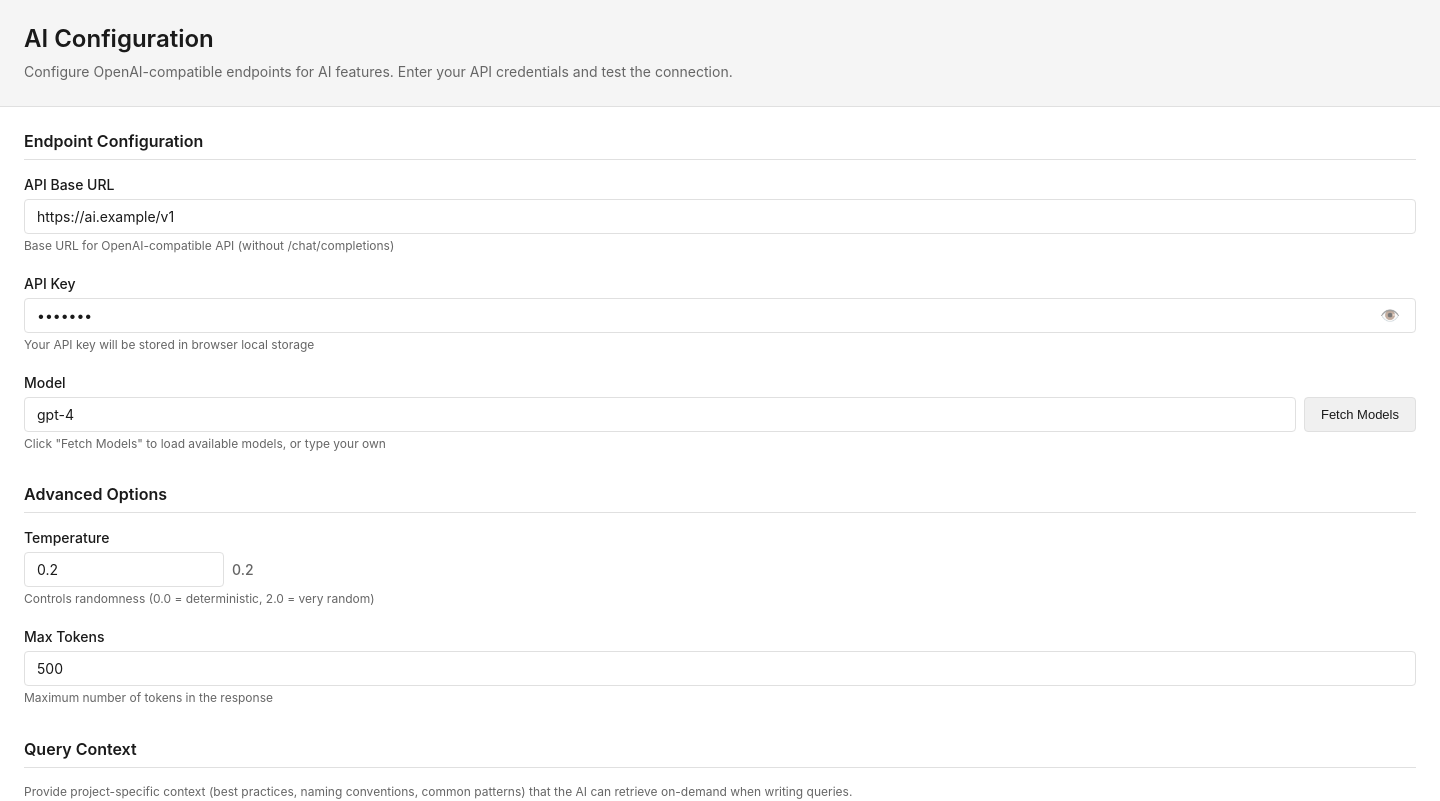
Test: AISettingsView › loads stored settings and toggles API key visibility
Step 1. Click the button with class "btn-toggle-visibility" → click(1390, 315), box [1372, 302, 1408, 329]
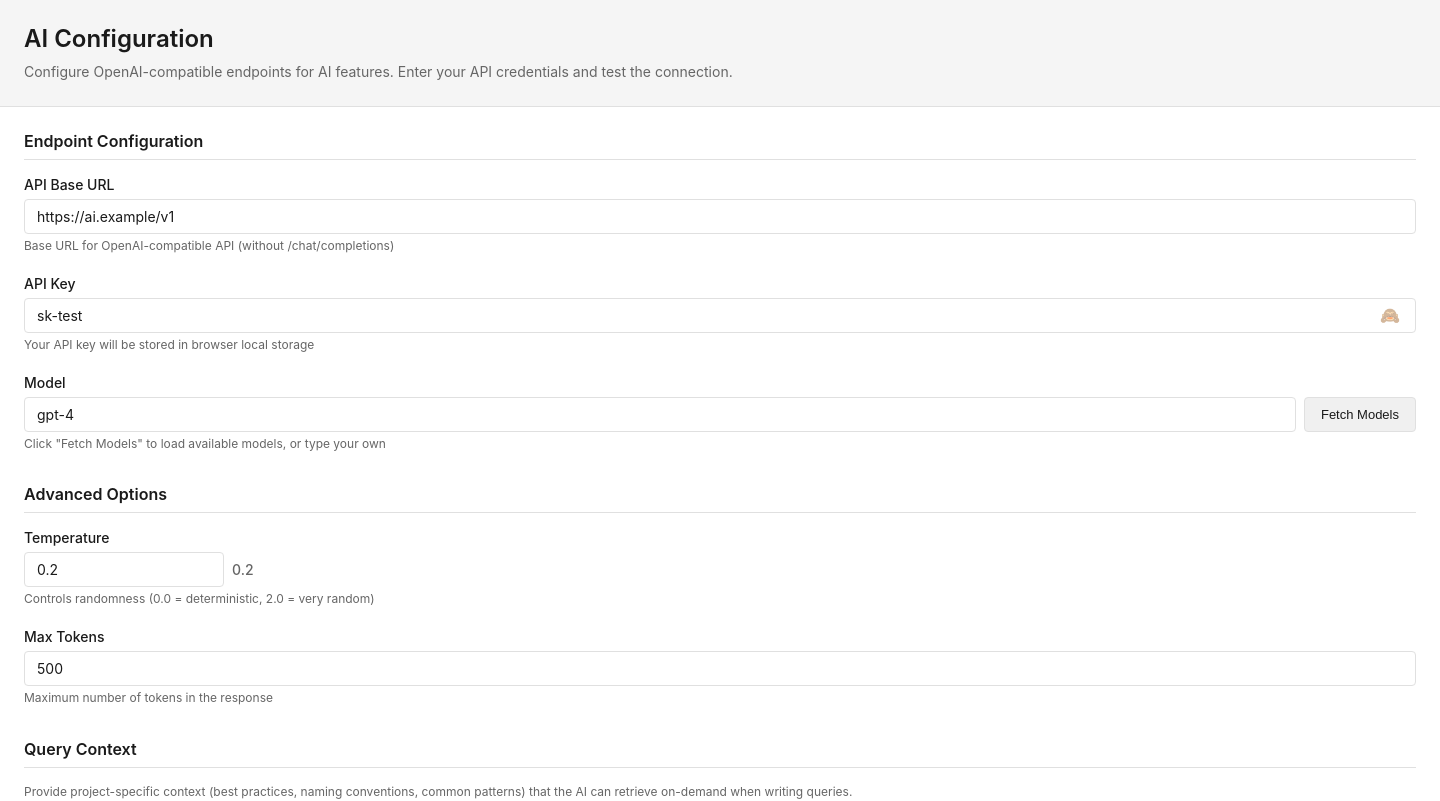
Now the field with id "ai-api-key" shows its text, box [24, 298, 1416, 333]
Step 2. Click the button with class "btn-toggle-visibility" → click(1390, 315), box [1372, 302, 1408, 329]
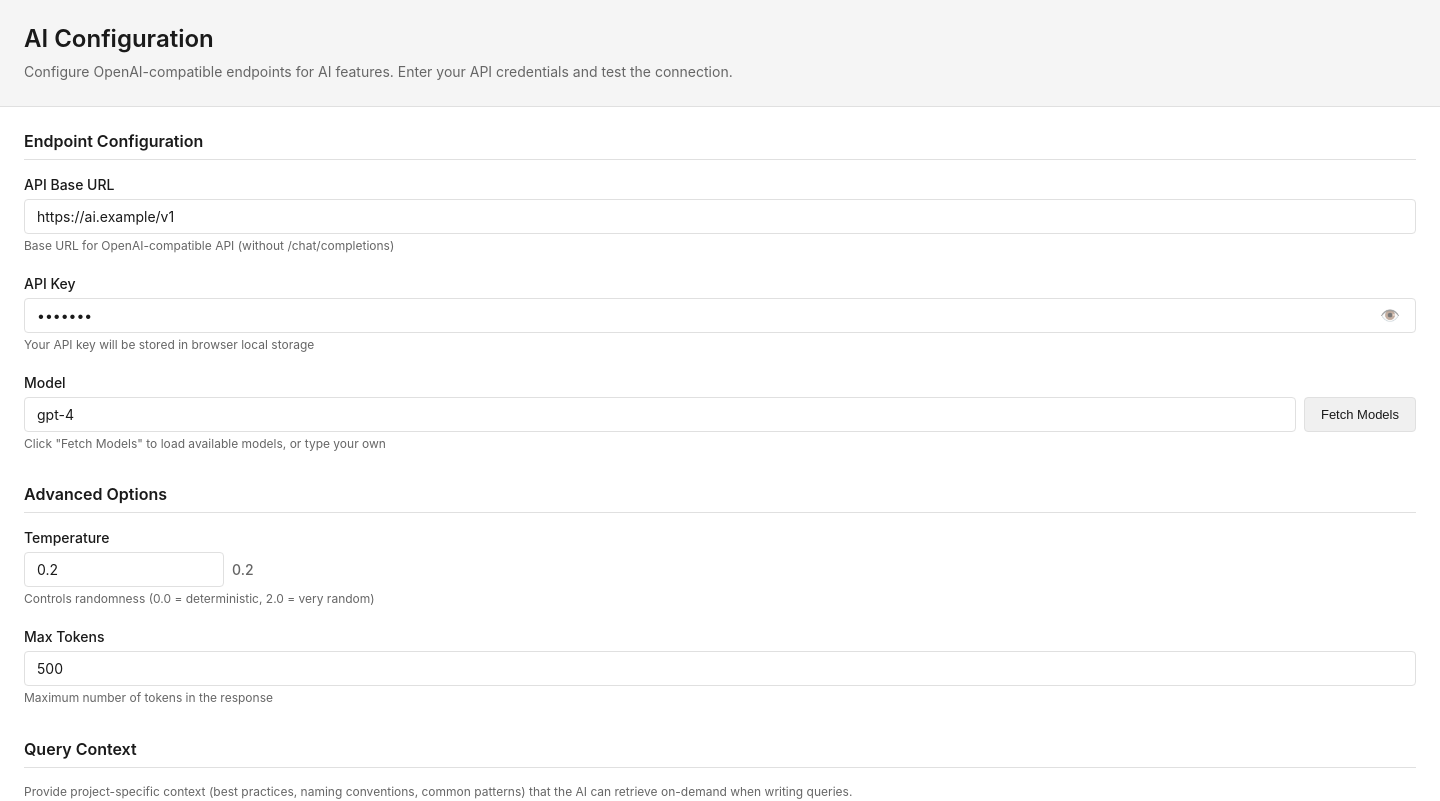
Now the password field with id "ai-api-key" hides its text, box [24, 298, 1416, 333]
